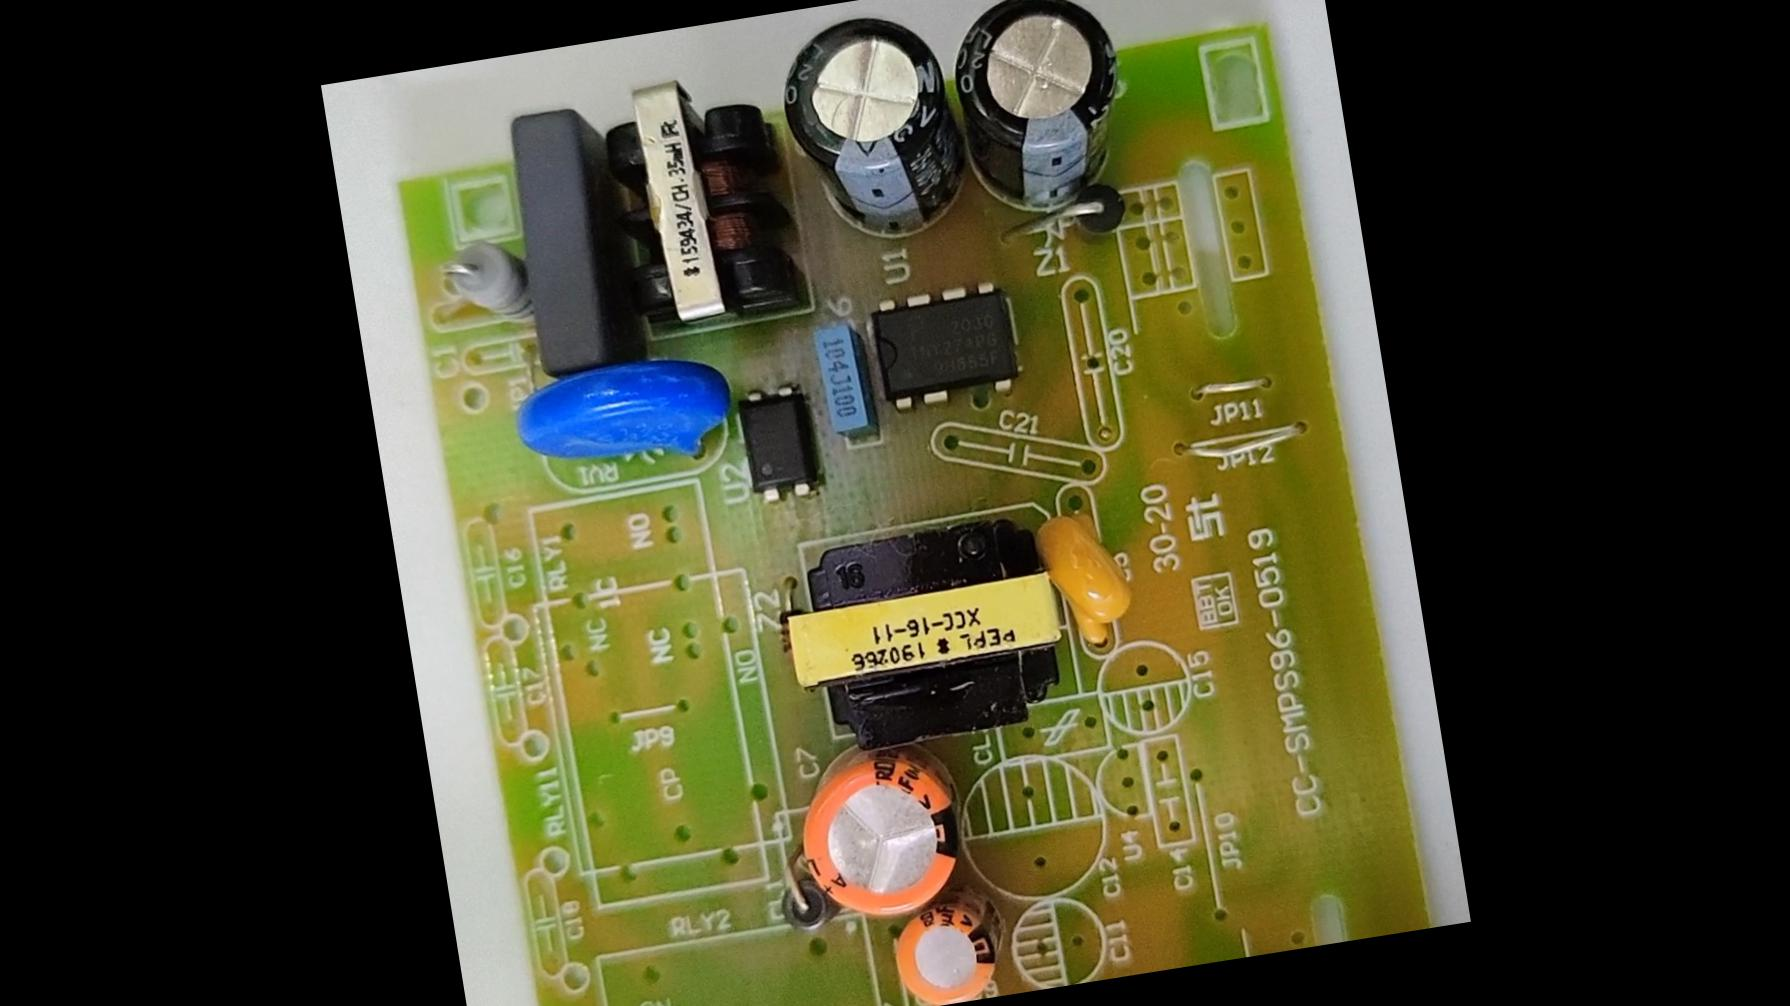Cap1: (778, 735, 986, 935)
Cap2: (874, 890, 1030, 1005)
Cap3: (765, 0, 981, 258)
Cap4: (936, 0, 1148, 236)
MOSFET: (858, 264, 1029, 423)
Mov: (500, 339, 745, 486)
Resistor: (434, 226, 541, 343)
Transformer: (765, 504, 1077, 760), (589, 55, 811, 346)
